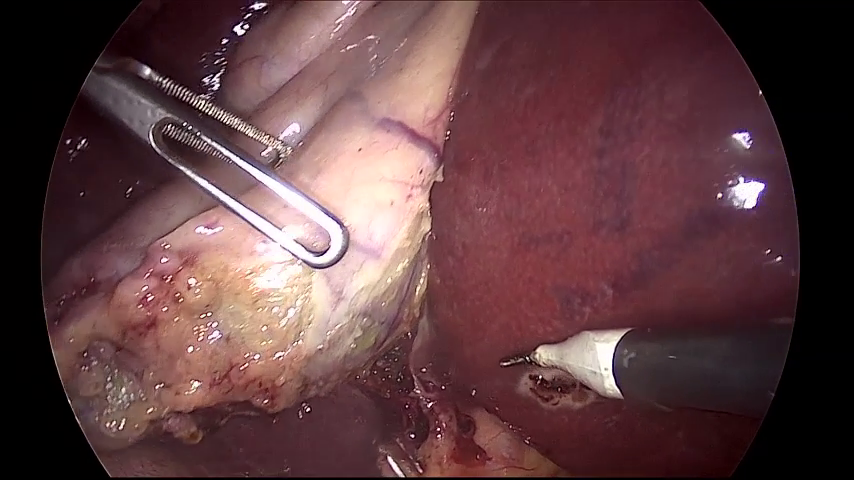grasper: (82, 57, 345, 263)
lhook: (500, 318, 794, 421)
